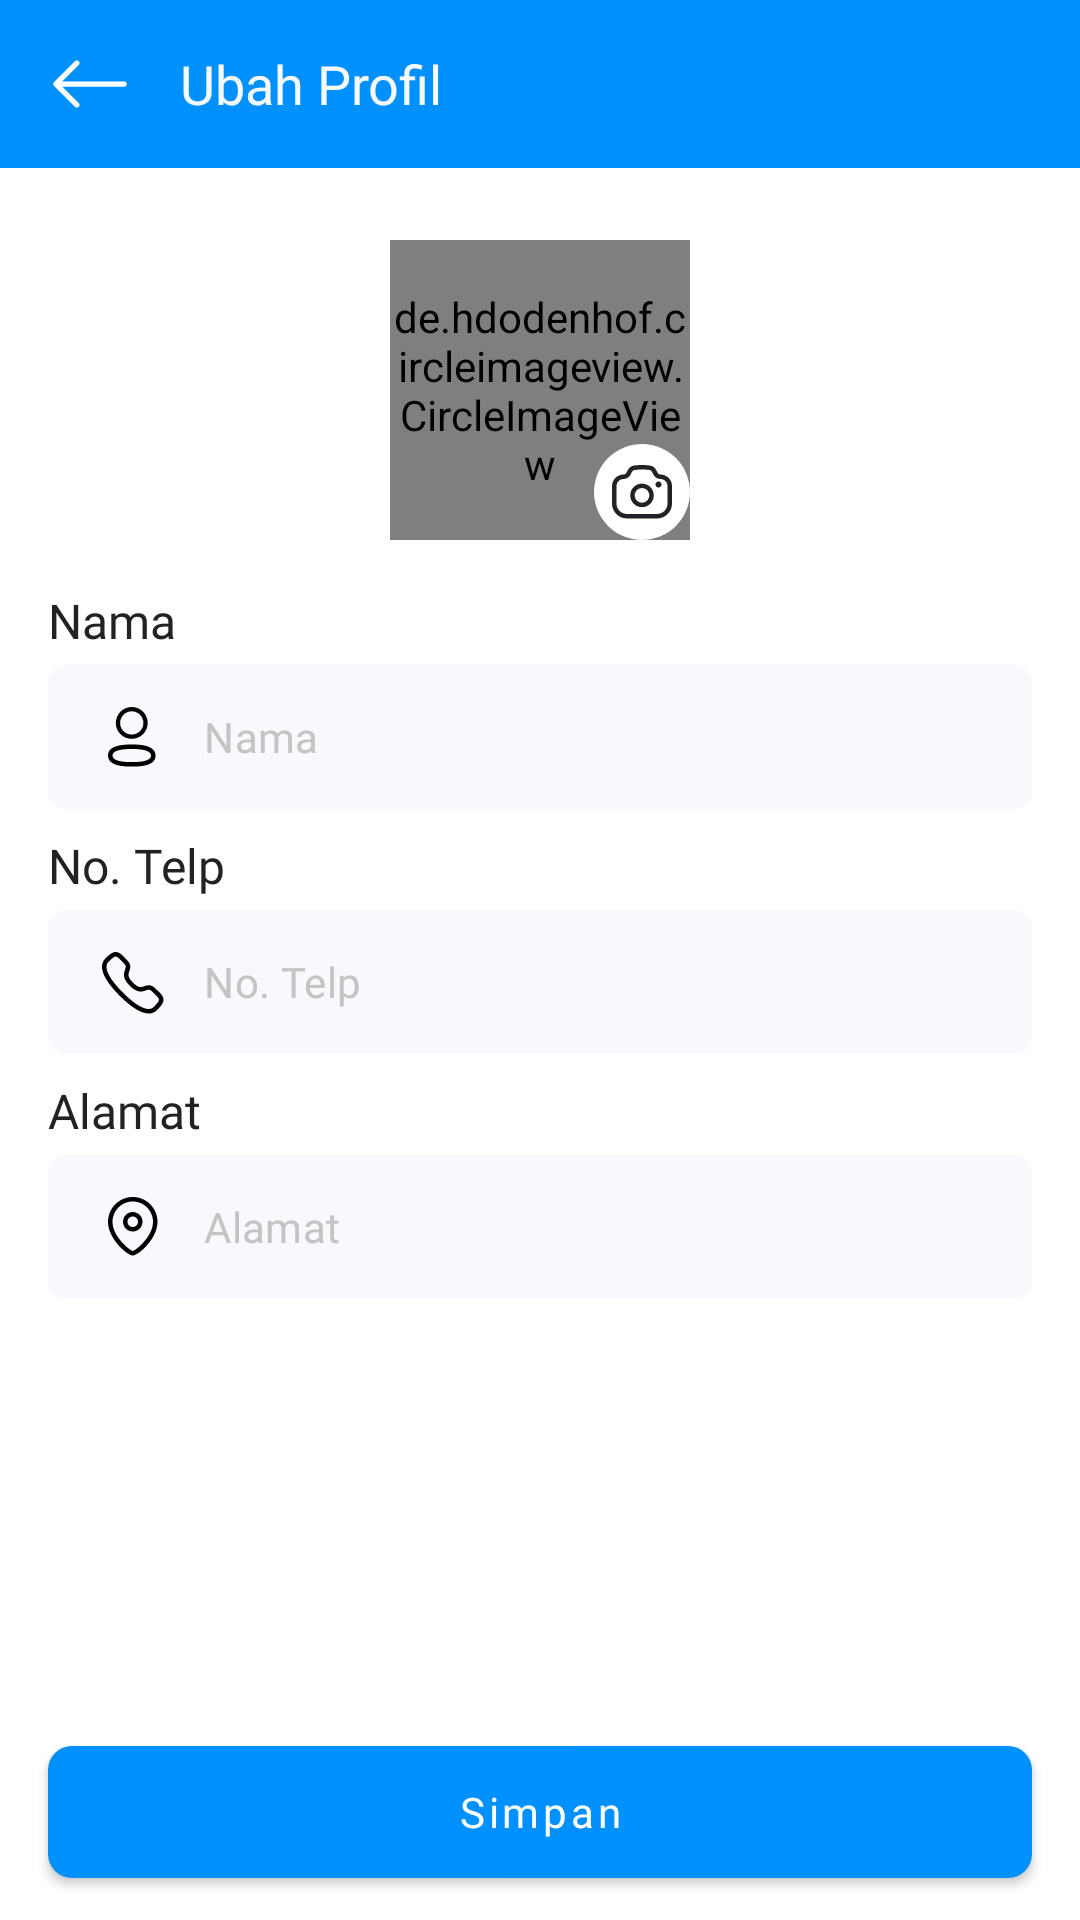

Screen size 1080px x 1920px. Icon name, then its center in pixels as (x=x, y=y):
arrow left: (x=90, y=84)
camera: (x=642, y=492)
